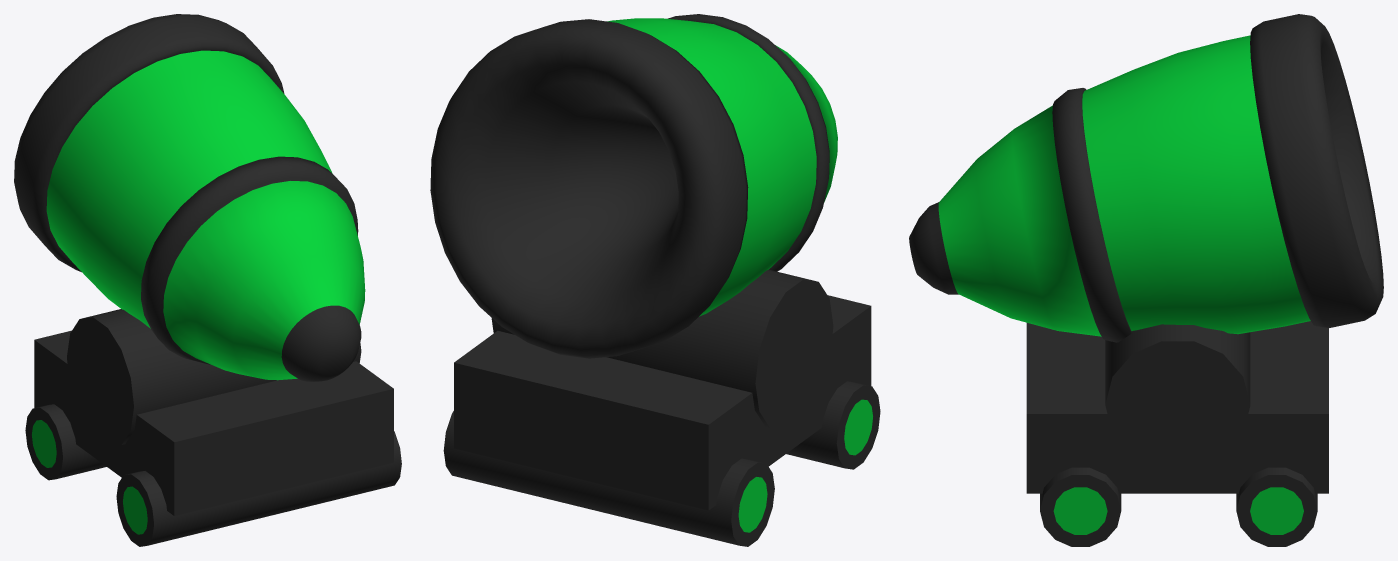
The model's file is moneygun.fbx.
3 views of the same model, side by side, from view 1: azimuth 30°, elevation 25°; view 2: azimuth 150°, elevation 25°; view 3: azimuth 270°, elevation 25° (orthographic). The views are drawn at different scales.
Parts seen in each view (by area): view 1: moneygun; view 2: moneygun; view 3: moneygun.
Part boxes in pixels (x1,y1,x2,y2): moneygun: [14, 14, 401, 546]; moneygun: [430, 14, 880, 546]; moneygun: [909, 14, 1383, 546].
Size of the model in its own units: 163 by 260 by 247.
1 material, 1 textured.
